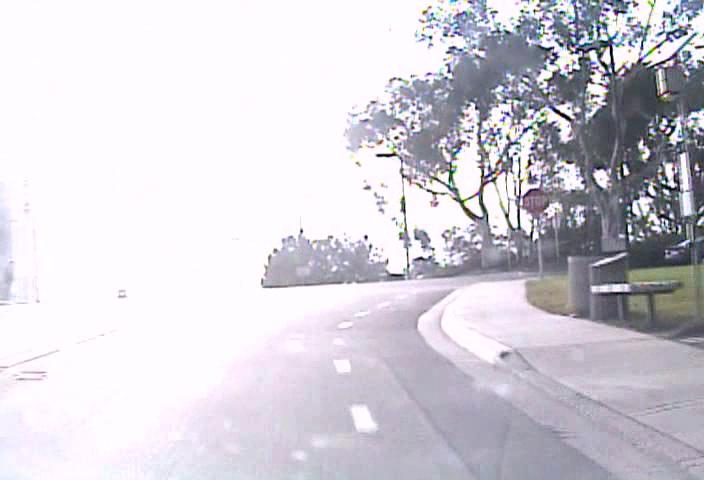stop: (522, 187, 549, 215)
